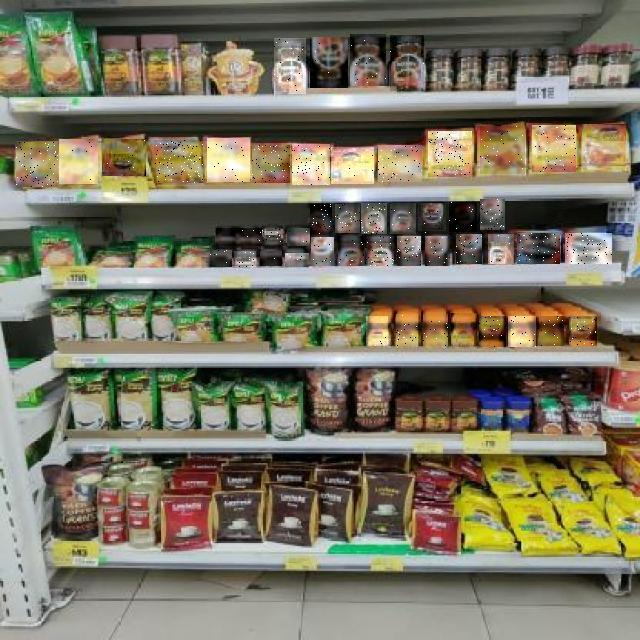Coffee: (480, 126, 525, 174), (154, 140, 203, 183), (532, 125, 576, 172), (582, 125, 626, 171), (428, 131, 472, 177), (310, 37, 348, 88), (391, 35, 425, 91), (207, 138, 250, 182), (17, 142, 59, 187), (351, 34, 387, 86), (274, 38, 306, 94), (59, 139, 98, 184), (378, 146, 422, 184), (102, 139, 146, 176), (331, 147, 374, 184), (292, 144, 330, 185), (565, 233, 612, 264), (252, 145, 290, 183), (517, 233, 560, 264), (451, 313, 477, 347), (509, 316, 537, 347), (449, 202, 477, 232), (419, 204, 447, 234), (366, 236, 394, 266), (569, 316, 597, 346), (479, 316, 506, 347), (361, 203, 387, 234), (390, 203, 416, 234), (480, 200, 505, 232), (423, 314, 448, 346), (456, 234, 482, 264), (488, 234, 514, 264), (426, 236, 452, 266), (338, 236, 364, 266), (540, 316, 566, 346), (335, 204, 360, 233), (397, 236, 421, 266), (396, 314, 418, 346), (311, 237, 334, 266), (310, 204, 332, 234), (367, 316, 389, 346), (236, 228, 262, 246), (287, 228, 310, 246), (210, 250, 232, 267), (216, 228, 236, 246), (262, 228, 284, 244), (235, 251, 257, 267), (285, 253, 309, 267), (260, 251, 282, 266)
